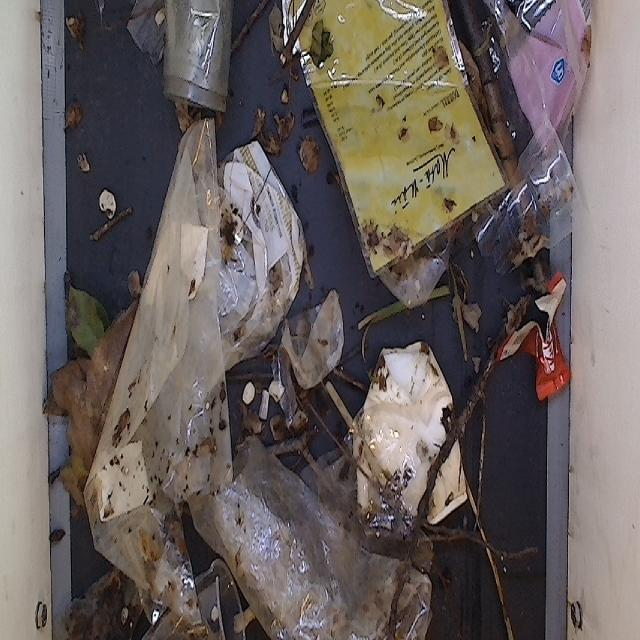food_packaging: (361, 339, 467, 532)
food_wrapping: (283, 0, 501, 265), (216, 126, 304, 375), (493, 0, 578, 132), (502, 272, 576, 420)
plastic_cups: (480, 134, 589, 282), (149, 554, 253, 640), (163, 0, 227, 132)
plastic_films: (92, 111, 230, 587), (211, 416, 423, 640), (263, 296, 350, 391)
